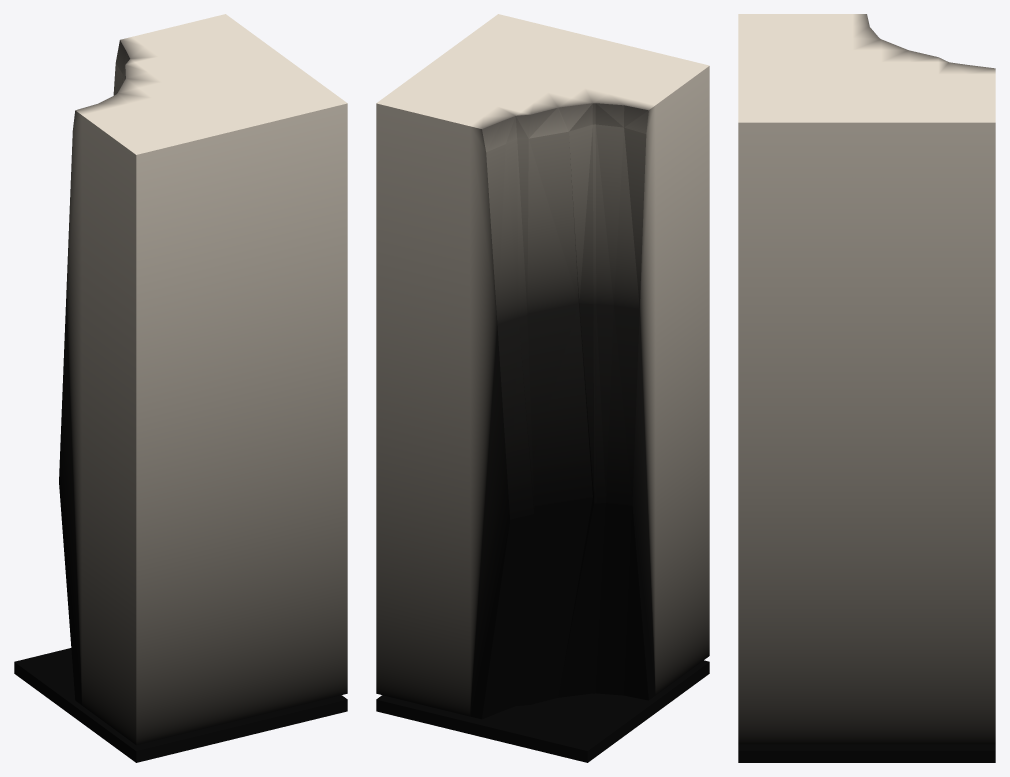
Rendered from SM_VKI_Ground_Cave_OOOX_Q10.fbx.
The picture shows the model from 3 angles, left to right: view 1: azimuth 30°, elevation 25°; view 2: azimuth 150°, elevation 25°; view 3: azimuth 270°, elevation 25°; orthographic projection. The views are drawn at different scales.
Parts seen in each view (by area): view 1: SM_VKI_Ground_Cave_OOOX_Q10.001; view 2: SM_VKI_Ground_Cave_OOOX_Q10.001; view 3: SM_VKI_Ground_Cave_OOOX_Q10.001.
Boxes of the visible parts, <box> form: SM_VKI_Ground_Cave_OOOX_Q10.001: <box>14,14,347,762</box>; SM_VKI_Ground_Cave_OOOX_Q10.001: <box>376,14,709,762</box>; SM_VKI_Ground_Cave_OOOX_Q10.001: <box>738,14,995,762</box>.
Bounding box in the file's own units: 1.5 × 4.12 × 1.5.
